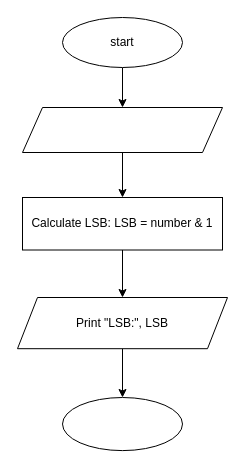
Some shapes in this 245 by 469 pixel diagram are drawn without their labels. Each missing label, with the centre of its shape:
Input a number: pixel 122 129
stop: pixel 122 423
